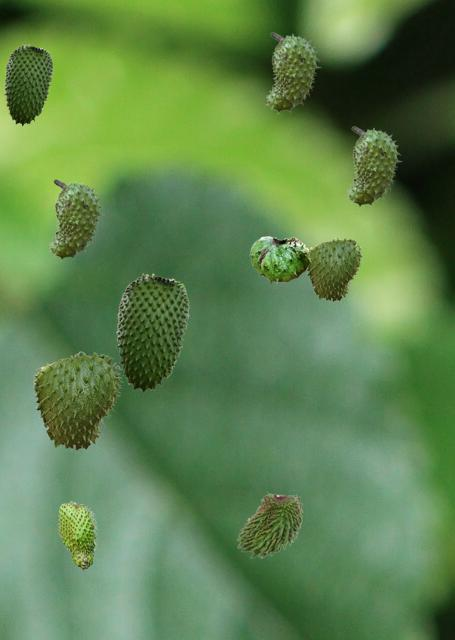guyabano: (33, 351, 122, 452), (116, 273, 188, 392), (48, 179, 103, 260), (346, 126, 401, 207), (265, 32, 320, 113), (236, 491, 302, 557), (4, 44, 52, 125), (306, 237, 362, 302), (249, 236, 310, 284), (57, 501, 97, 569)
